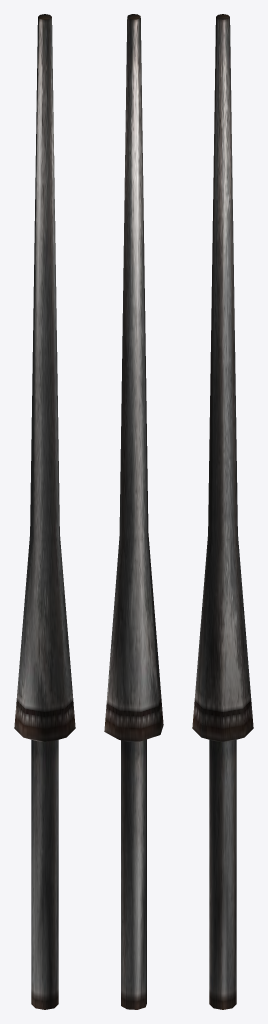
Rendered from weapons_jspear.glb.
3 renders of one model, left to right at view 1: azimuth 90°, elevation 25°; view 2: azimuth 150°, elevation 25°; view 3: azimuth 270°, elevation 25°, orthographic.
Visible parts, largest first — view 1: jspear; view 2: jspear; view 3: jspear.
Part boxes in pixels (x1,y1,x2,y2): jspear: [14, 14, 75, 1009]; jspear: [104, 14, 163, 1009]; jspear: [192, 14, 253, 1009].
Size of the model in its own units: 0.093 by 1.65 by 0.093.
1 material, 1 textured.
